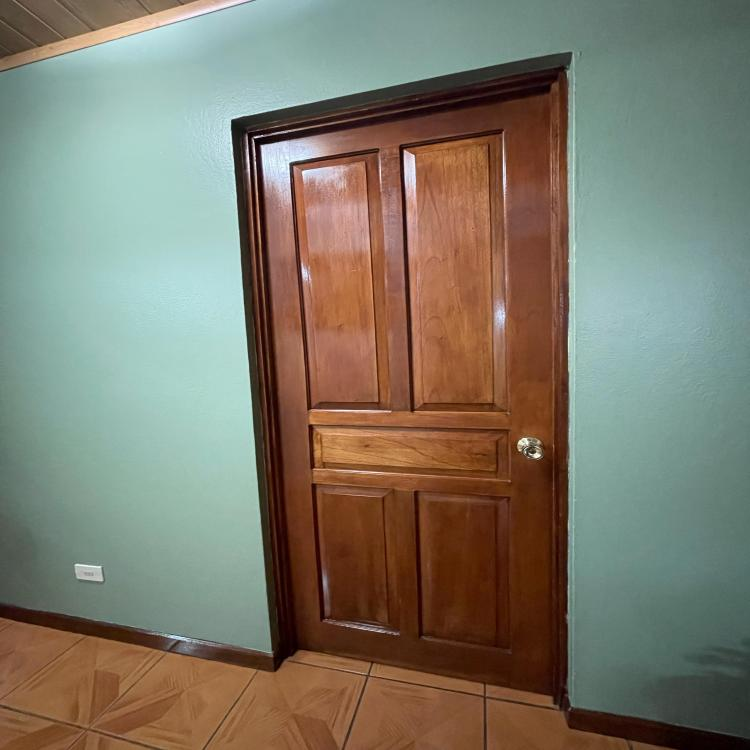ClosedDoor: (231, 44, 579, 726)
